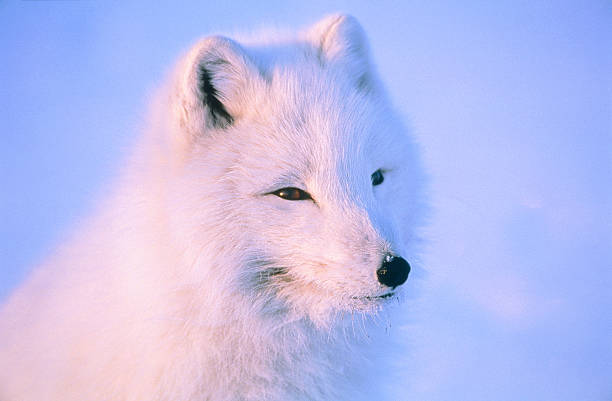arcticfox: (225, 67, 387, 295)
